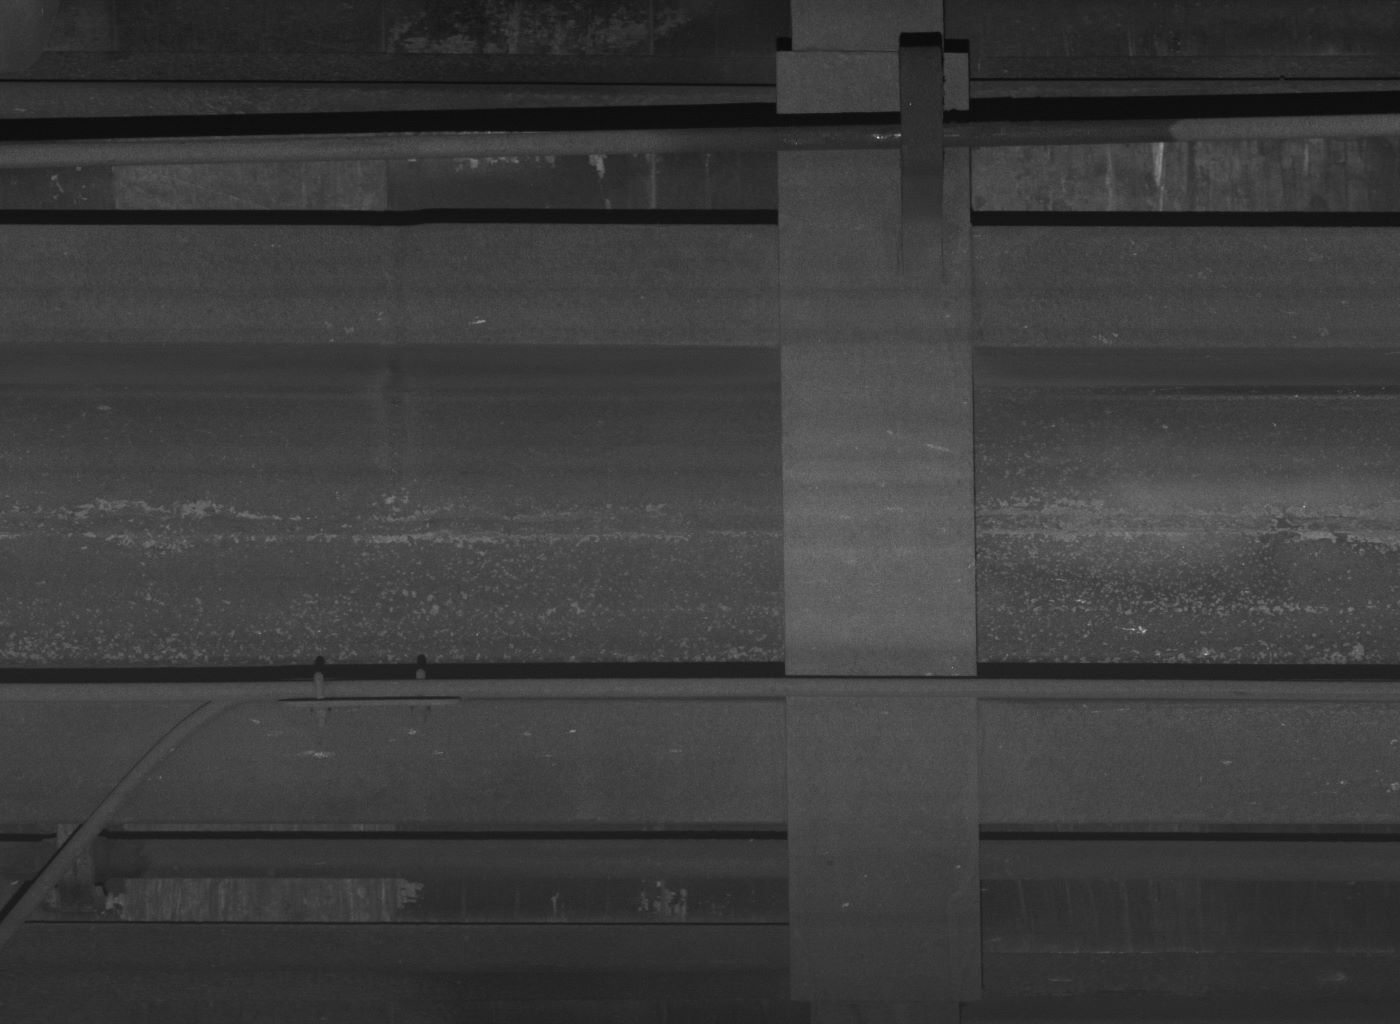normal: (895, 36, 942, 282)
